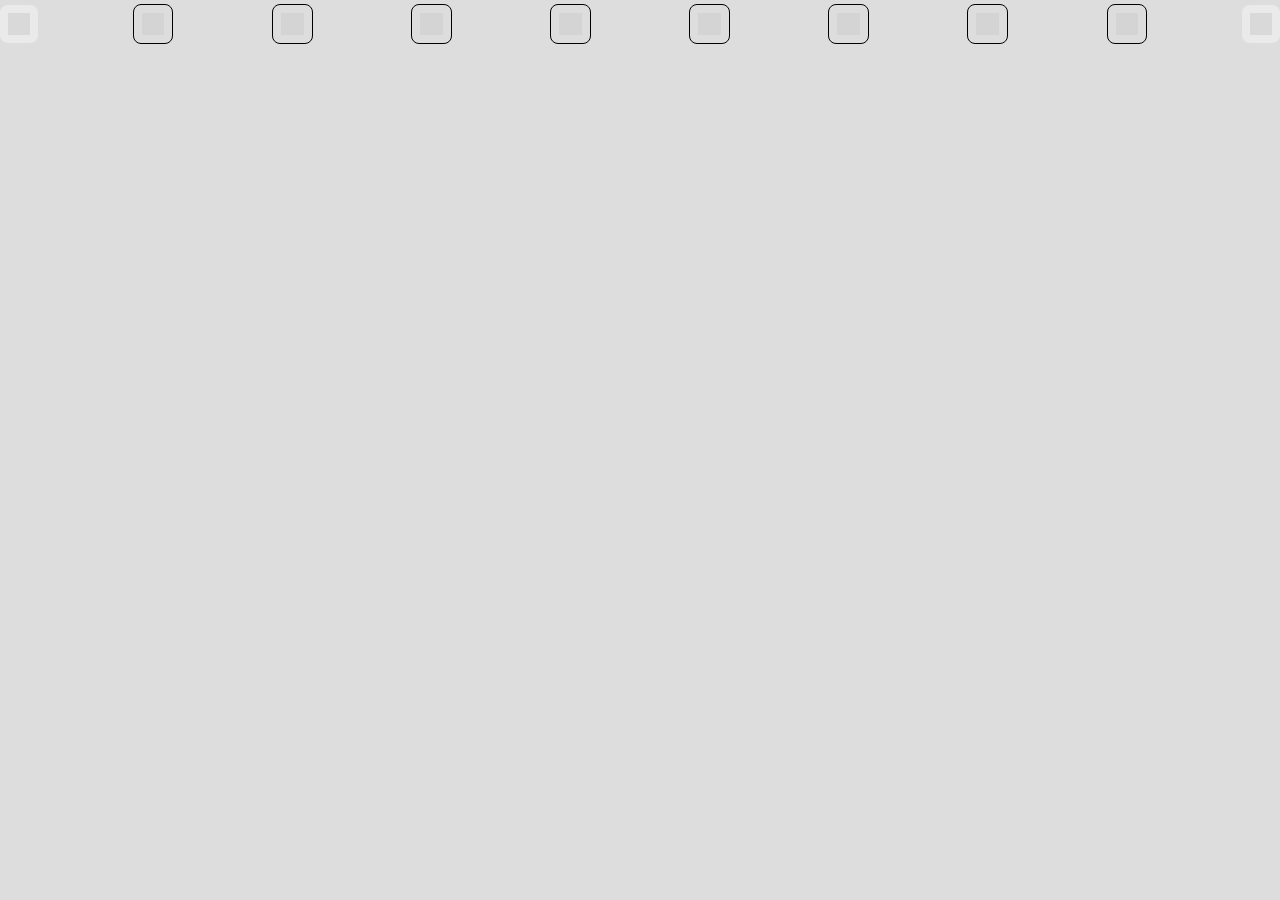
Scenario: OptionenFrameSmsTextbild Komponente › öffnet den Bestätigungsdialog beim Klicken auf Löschen
Click the button titled "Löschen" at (849, 24), box [828,4,869,44]
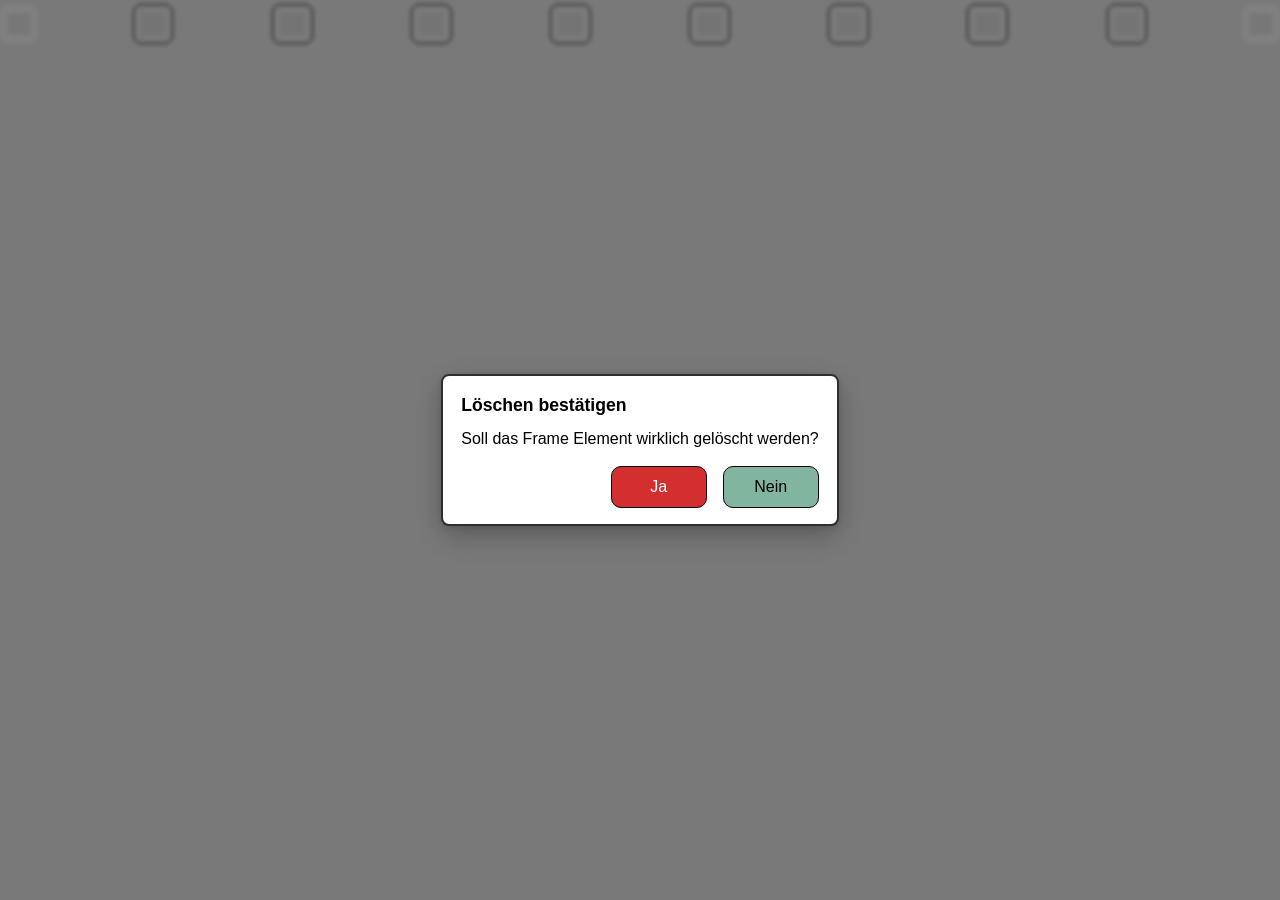
Result: the text "Soll das Frame Element wirklich gelöscht werden?" is shown at [461,427,819,450]
